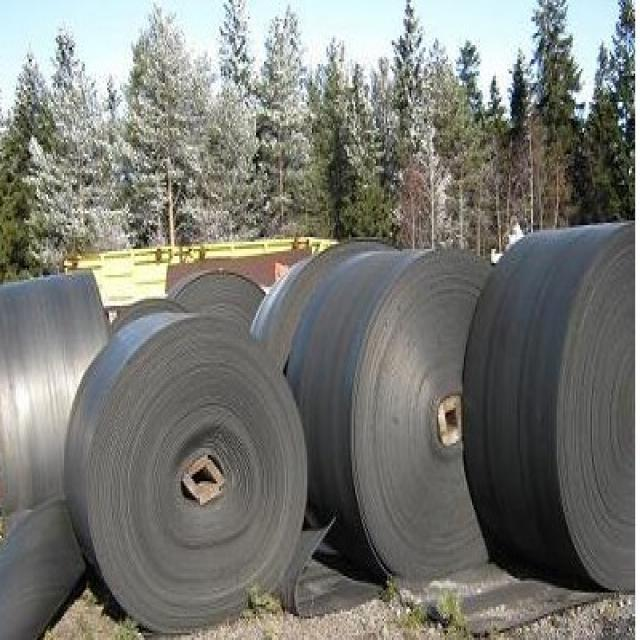convoyeur: (70, 316, 305, 626), (280, 239, 478, 585), (472, 224, 640, 601), (0, 268, 111, 512), (177, 270, 266, 321)
